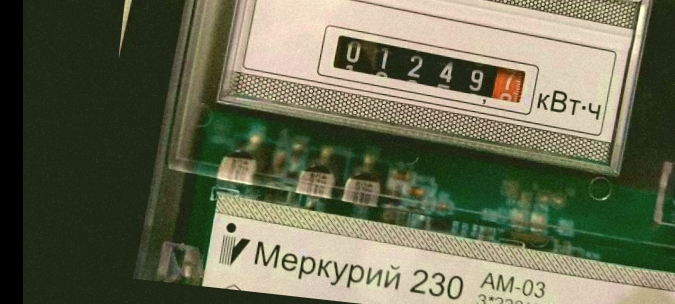0: (344, 37, 364, 65)
1: (376, 43, 393, 71)
2: (405, 53, 425, 80)
4: (438, 57, 457, 84)
7: (501, 65, 519, 93)
9: (466, 65, 486, 93)
screen: (314, 22, 544, 119)
